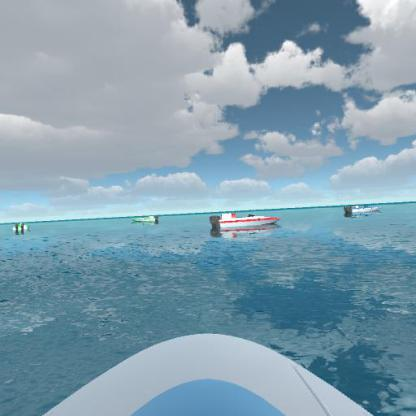usv0: (127, 211, 160, 226), (10, 217, 32, 234)
usv1: (342, 200, 386, 220)
usv3: (204, 209, 289, 237)
